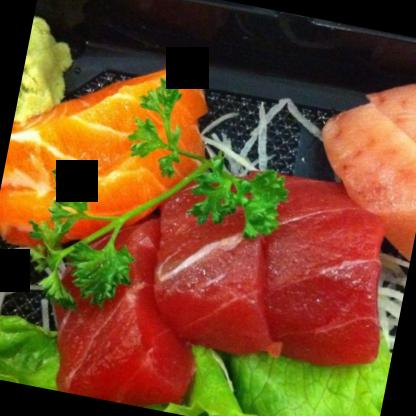salmon: (0, 35, 219, 271)
tuna: (135, 162, 397, 386), (40, 204, 219, 414)
